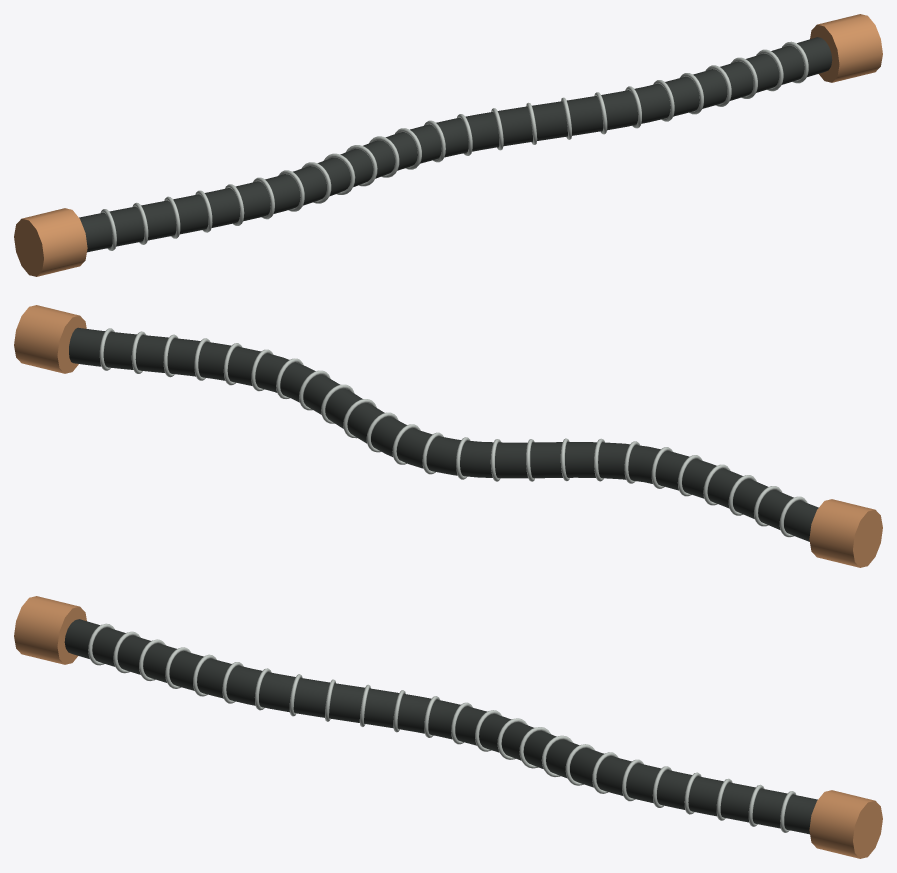
The model's file is spacecraft-thermal-test-chamber-coolant-transfer-line-a6de0fba__32054.glb.
3 renders of one model, top to bottom at view 1: azimuth 30°, elevation 25°; view 2: azimuth 150°, elevation 25°; view 3: azimuth 330°, elevation 25°, orthographic.
Parts seen in each view (by area): view 1: coolant-transfer-line; view 2: coolant-transfer-line; view 3: coolant-transfer-line.
Part boxes in pixels (box(x1,y1,x2,y2)): coolant-transfer-line: box(14, 14, 882, 276); coolant-transfer-line: box(14, 305, 882, 567); coolant-transfer-line: box(14, 596, 882, 858).
Bounding box in the file's own units: 1.35 × 0.084 × 0.1408.
